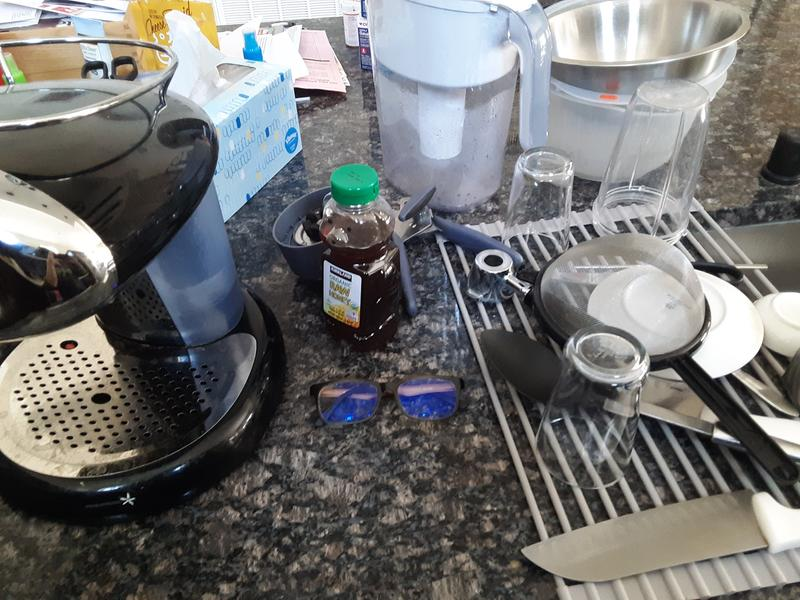glasses: (309, 375, 463, 430)
